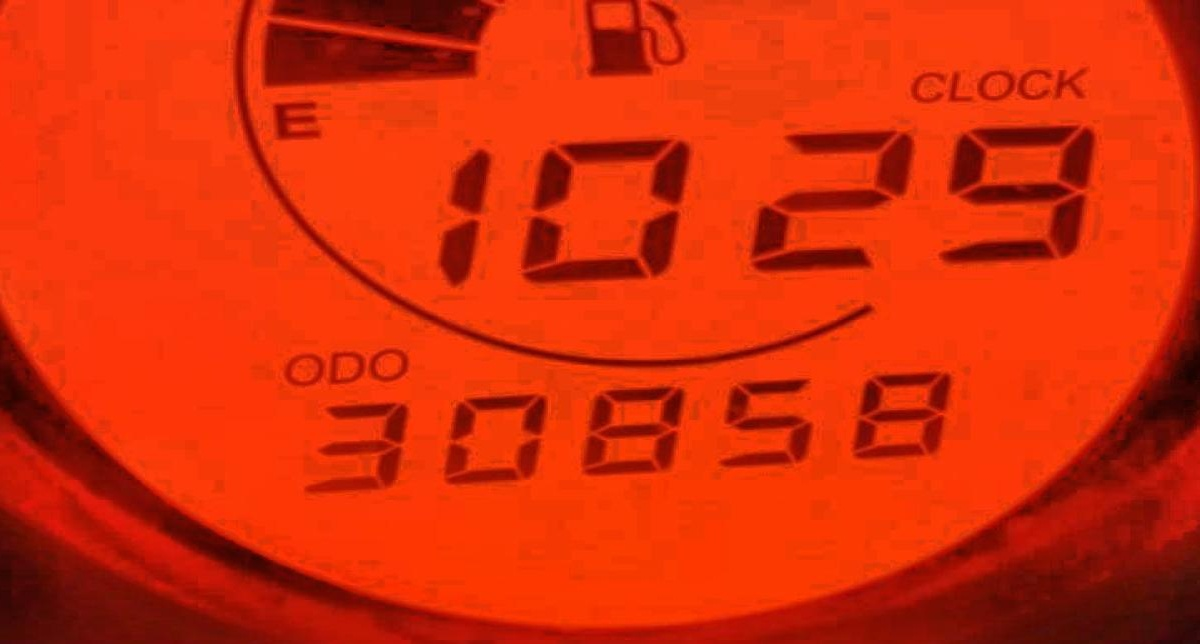0: (516, 132, 694, 287), (439, 392, 547, 485)
1: (434, 142, 495, 288)
2: (749, 126, 922, 275)
3: (301, 401, 407, 492)
5: (715, 377, 812, 467)
8: (579, 384, 684, 475), (850, 370, 952, 459)
9: (940, 122, 1095, 266)
X: (264, 94, 323, 140), (326, 348, 366, 383), (283, 351, 323, 385), (368, 347, 408, 380), (909, 71, 944, 101), (977, 70, 1013, 99), (1017, 67, 1048, 98), (1055, 66, 1085, 98), (946, 69, 970, 102)
